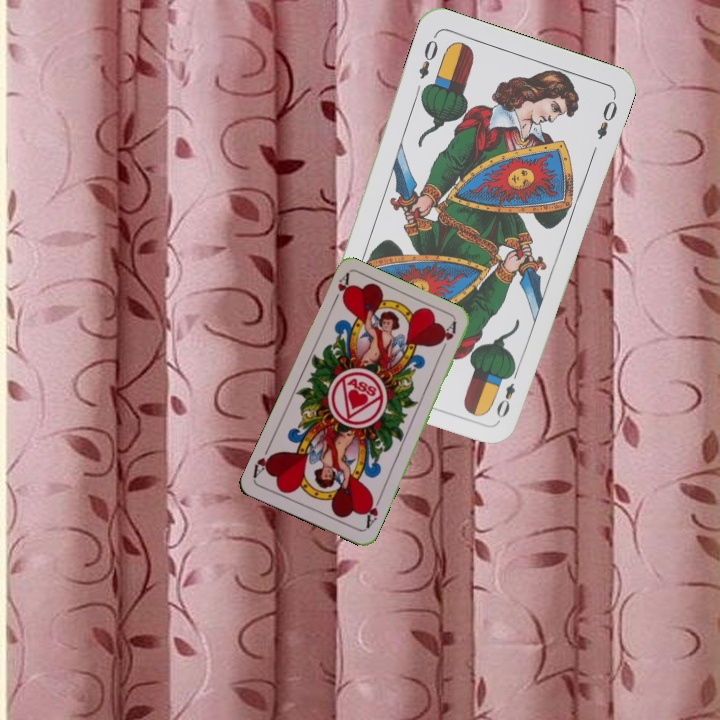EO: (492, 364, 522, 421), (414, 31, 441, 82)
HA: (328, 271, 353, 309), (361, 491, 384, 531)
